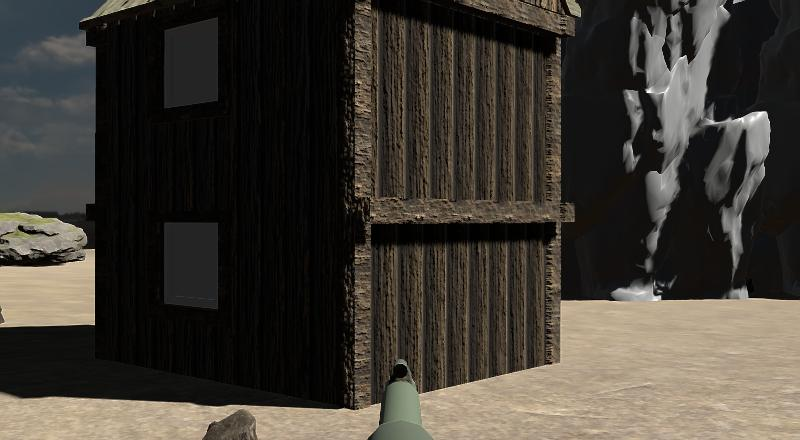House: (79, 0, 581, 423)
